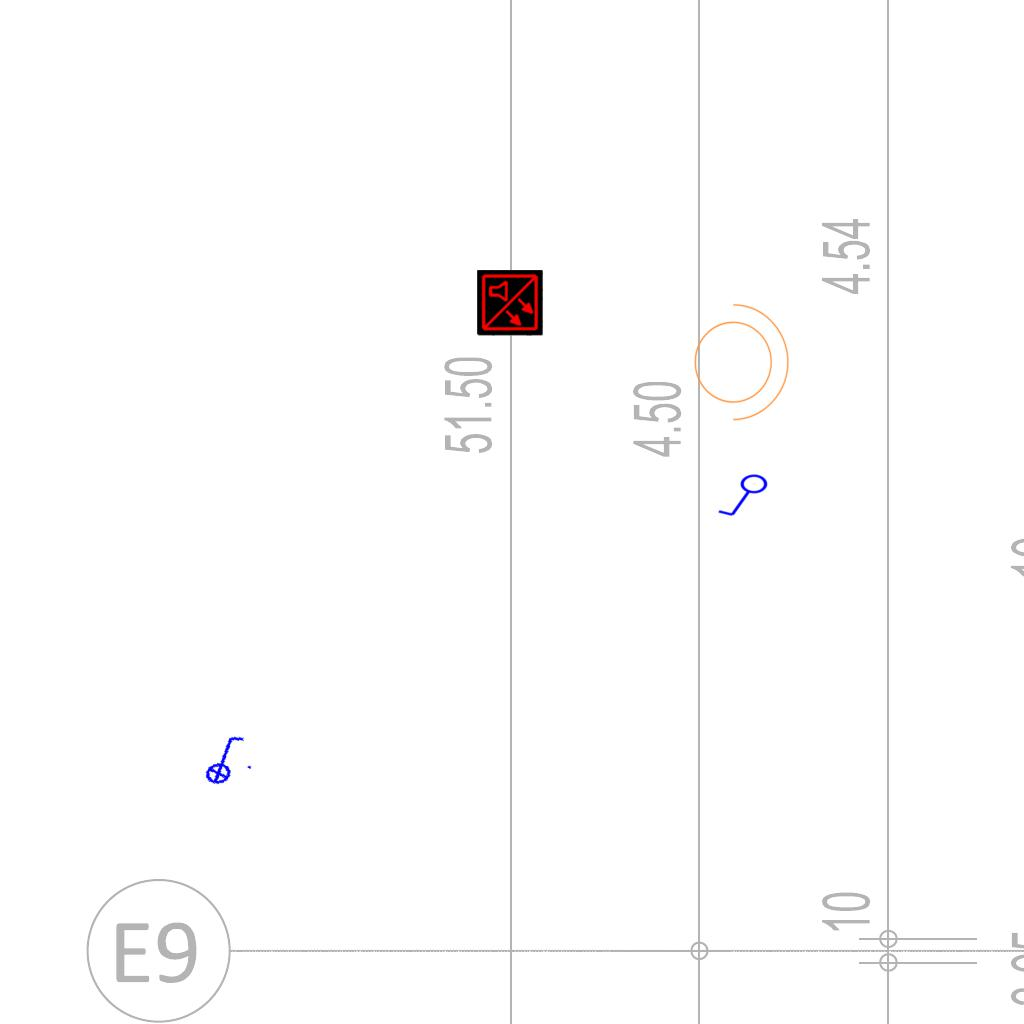Ausschalter: (717, 473, 773, 521)
Ausschalter_beleuchtet: (191, 729, 257, 789)
OKW_Multisensormelder_(Kombination_optischer_Rauch-Kahlenmonoxid_Waerme-Melder): (477, 270, 543, 336)
Scheinwerfer_fuer_Alarmbeleuchtung: (682, 293, 794, 425)
